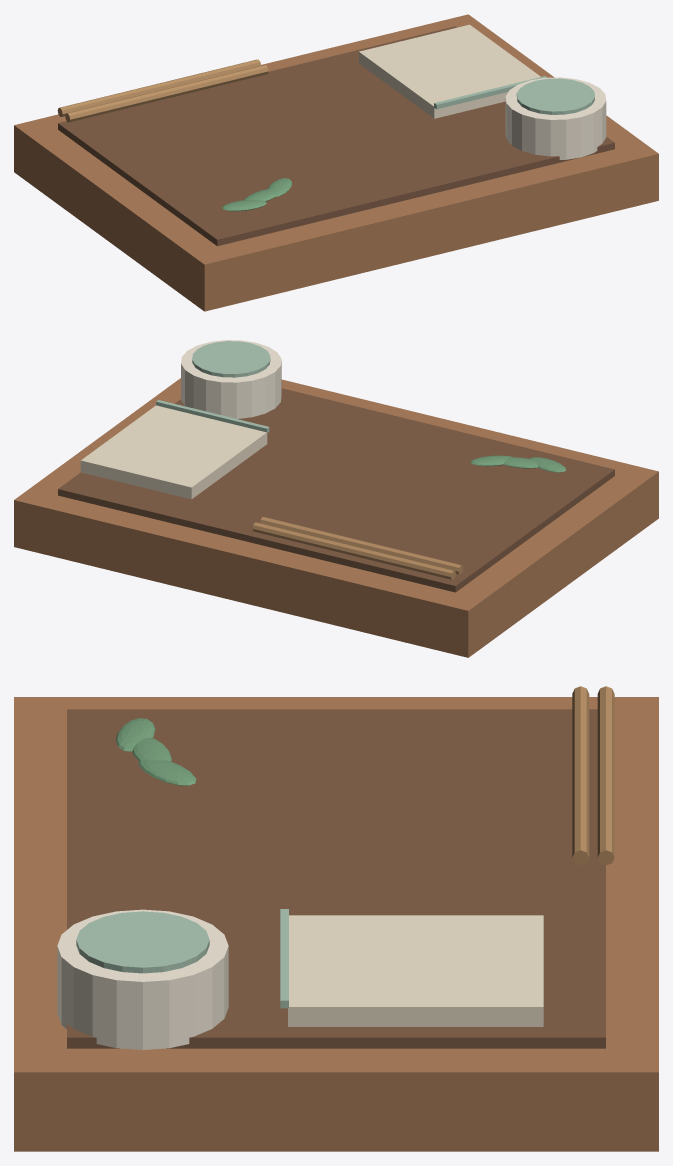
Rendered from finished_serving_tray.glb.
3 views of the same model, one above another, from view 1: azimuth 30°, elevation 25°; view 2: azimuth 150°, elevation 25°; view 3: azimuth 270°, elevation 25° (orthographic). The views are drawn at different scales.
Parts seen in each view (by area): view 1: serving_tray_inset, serving_tray_body, folded_napkin, little_dipping_cup, dip_well, chopstick_0, chopstick_1, napkin_herringbone_edge; view 2: serving_tray_inset, serving_tray_body, folded_napkin, little_dipping_cup, dip_well, chopstick_1, chopstick_0, napkin_herringbone_edge; view 3: serving_tray_inset, serving_tray_body, folded_napkin, little_dipping_cup, dip_well, chopstick_1, chopstick_0, tray_small_herb_leaf_2, napkin_herringbone_edge, tray_small_herb_leaf_0, tray_small_herb_leaf_1.
Boxes of the visible parts, <box> form: serving_tray_inset: <box>58,26,614,246</box>; serving_tray_body: <box>14,14,658,311</box>; folded_napkin: <box>359,24,540,118</box>; little_dipping_cup: <box>505,77,606,159</box>; dip_well: <box>516,78,594,114</box>; chopstick_0: <box>65,65,268,122</box>; chopstick_1: <box>57,59,260,116</box>; napkin_herringbone_edge: <box>434,76,546,109</box>; serving_tray_inset: <box>58,388,614,592</box>; serving_tray_body: <box>14,378,658,657</box>; folded_napkin: <box>80,405,267,499</box>; little_dipping_cup: <box>181,340,281,418</box>; dip_well: <box>192,341,270,377</box>; chopstick_1: <box>252,522,455,579</box>; chopstick_0: <box>260,517,463,574</box>; napkin_herringbone_edge: <box>156,400,269,432</box>; serving_tray_inset: <box>67,709,605,1048</box>; serving_tray_body: <box>14,697,658,1151</box>; folded_napkin: <box>288,915,543,1026</box>; little_dipping_cup: <box>57,909,228,1049</box>; dip_well: <box>76,911,209,973</box>; chopstick_1: <box>597,686,614,865</box>; chopstick_0: <box>572,686,589,865</box>; tray_small_herb_leaf_2: <box>138,760,196,785</box>; napkin_herringbone_edge: <box>280,909,288,1008</box>; tray_small_herb_leaf_0: <box>116,718,155,751</box>; tray_small_herb_leaf_1: <box>132,737,171,761</box>.
Bounding box in the file's own units: 0.84 × 0.1655 × 0.61.
